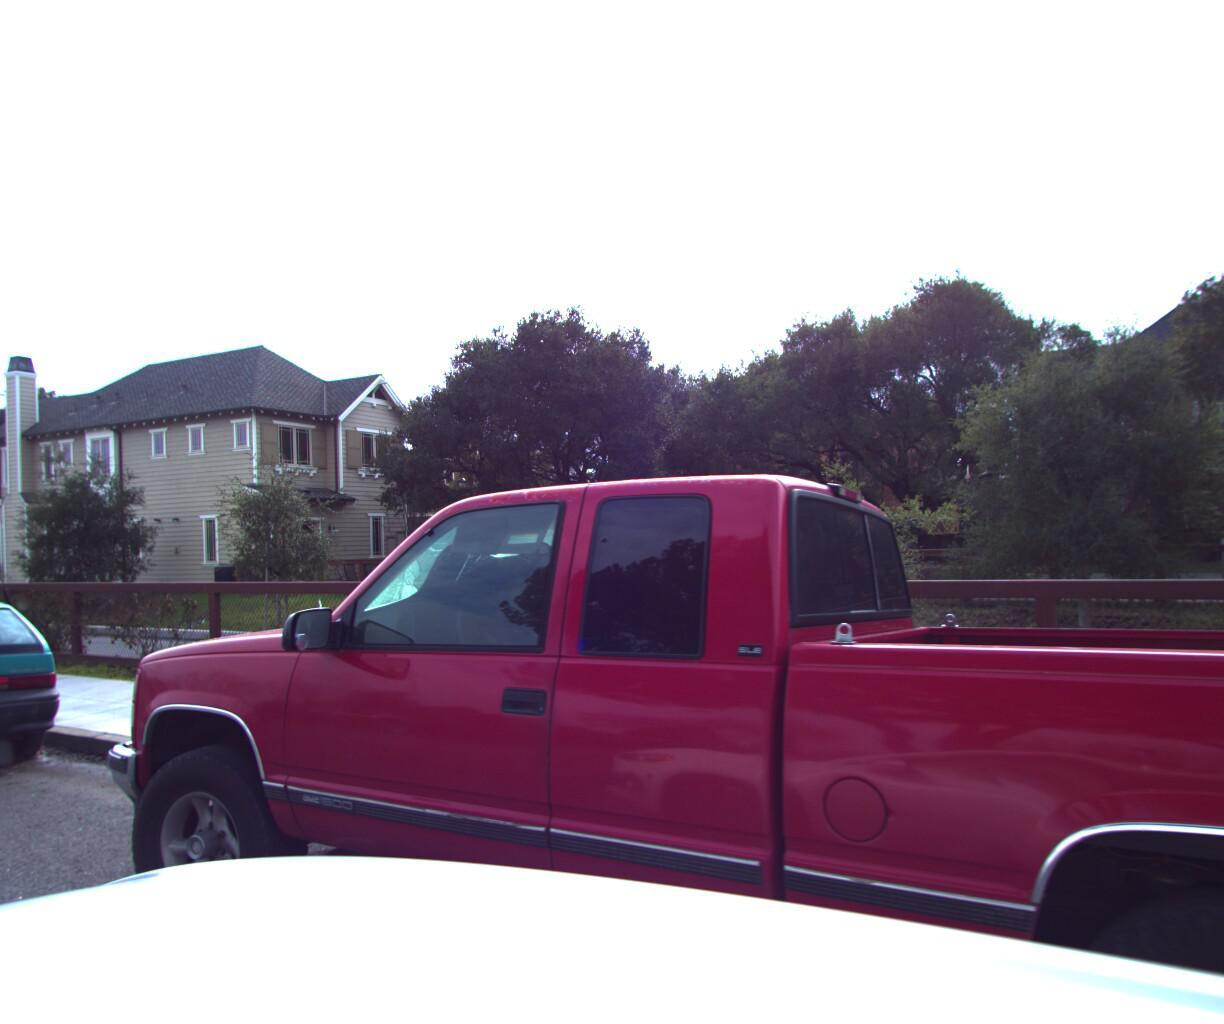car: (26, 334, 1224, 1024), (0, 526, 82, 807)
